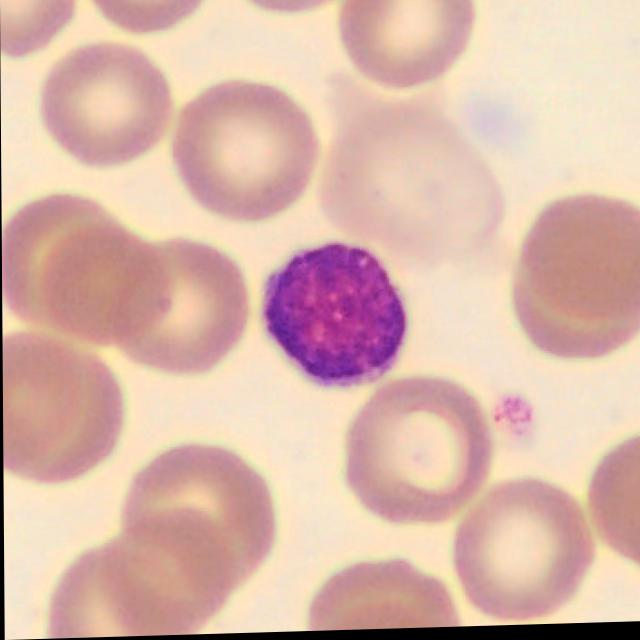Linfocito: (266, 245, 403, 383)
